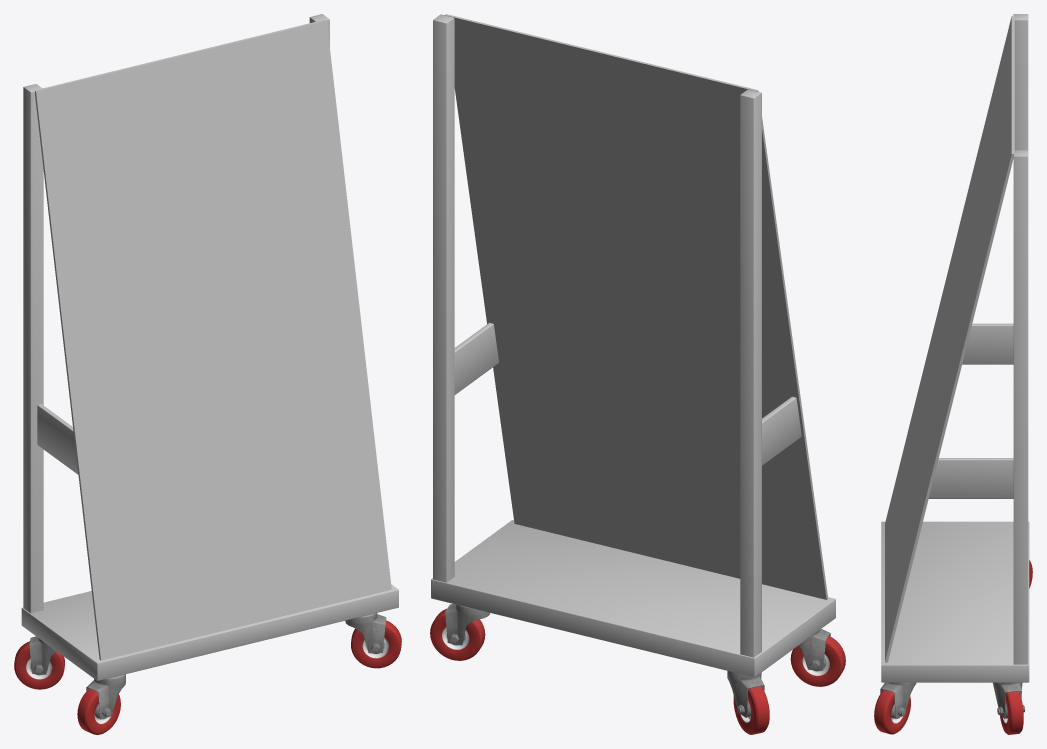
Rendered from SM_Perforated_Pplate_02.fbx.
The picture shows the model from 3 angles, left to right: view 1: azimuth 30°, elevation 25°; view 2: azimuth 150°, elevation 25°; view 3: azimuth 270°, elevation 25°; orthographic projection. The views are drawn at different scales.
Visible parts, largest first — view 1: Perforated_Pplate_02; view 2: Perforated_Pplate_02; view 3: Perforated_Pplate_02.
Boxes of the visible parts, x1,y1,x2,y2 form: Perforated_Pplate_02: (14,14,401,734); Perforated_Pplate_02: (430,14,845,734); Perforated_Pplate_02: (874,14,1032,734).
Size of the model in its own units: 0.9687 by 1.72 by 0.4249.
